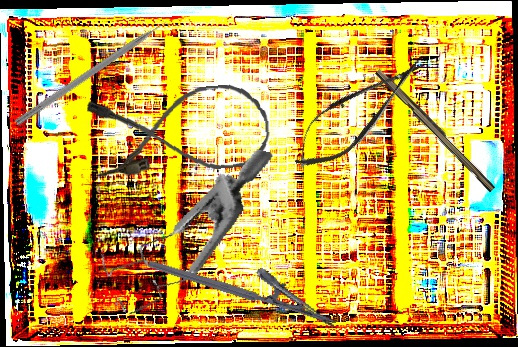Cannula: (85, 81, 274, 180)
Chopper: (14, 13, 182, 135)
Micro Scissor: (280, 43, 436, 182)
Needle Holder: (147, 234, 345, 329)
Scalpel Handle: (372, 66, 500, 193)
Speculum: (88, 117, 274, 339)
